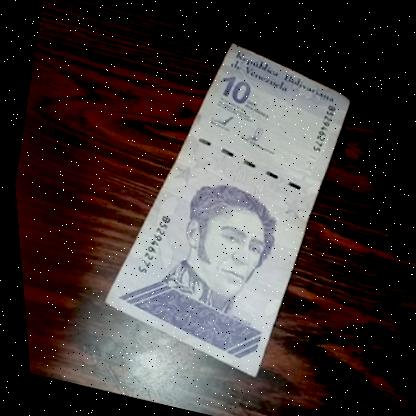ten-front-vef: (71, 24, 372, 390)
